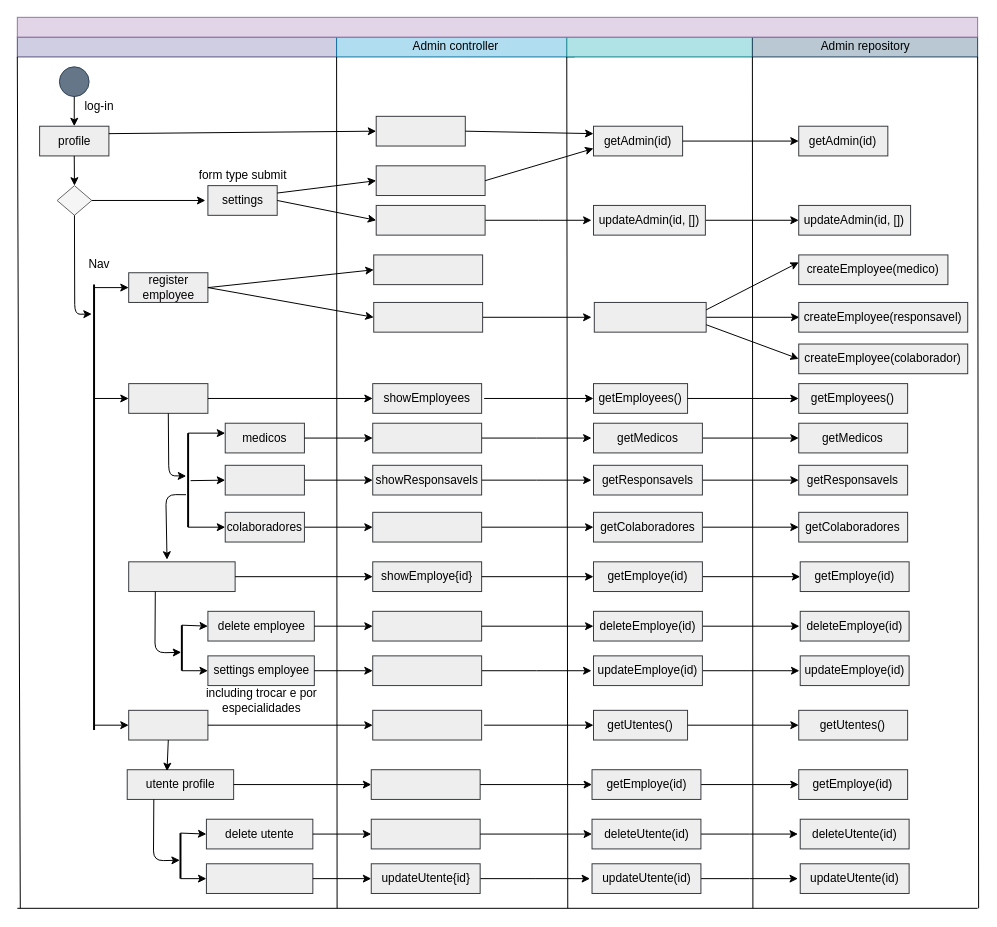
This 997x927 diagram has some shape labels left out. Here are the shapes that lost their labels. From the top down, the centre of each, then its label:
At point 176,46: "views".
At point 497,26: "Admin".
At point 659,46: "Admin service".
At point 420,130: "showProfile{id}".
At point 430,180: "showSettings{id}".
At point 430,219: "updateProfile{id}".
At point 428,269: "showRegister".
At point 428,316: "createEmployee{[]}".
At point 649,316: "createEmployee([])".
At point 168,398: "employees".
At point 427,437: "showMedicos".
At point 264,479: "responsavels".
At point 427,526: "showColaboradores".
At point 181,576: "employee profile".
At point 427,625: "deleteEmploye{id}".
At point 427,670: "updateEmploye{id}".
At point 168,724: "utentes".
At point 427,724: "showUtentes".
At point 425,784: "showUtentes{id}".
At point 425,833: "deleteUtente{id}".
At point 259,878: "settings utente".
